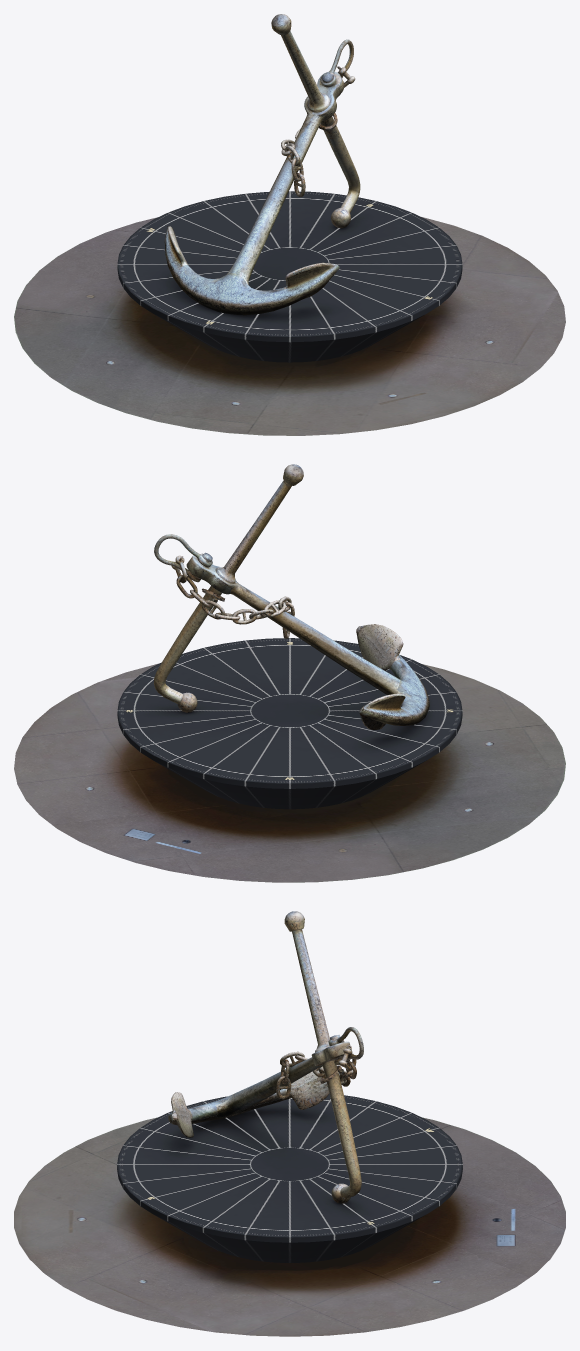
Rendered from MiraiKoukai2.gltf.
The picture shows the model from 3 angles, top to bottom: view 1: azimuth 30°, elevation 25°; view 2: azimuth 150°, elevation 25°; view 3: azimuth 270°, elevation 25°; orthographic projection.
Visible parts, largest first — view 1: Floor, Base, Anchor, Tube; view 2: Floor, Base, Anchor, Tube; view 3: Floor, Base, Anchor, Tube.
Part boxes in pixels (<box>): Floor: <box>14,217,565,435</box>; Base: <box>117,191,462,362</box>; Anchor: <box>164,39,353,315</box>; Tube: <box>271,14,360,228</box>; Floor: <box>14,663,565,882</box>; Base: <box>117,638,462,809</box>; Anchor: <box>154,534,429,729</box>; Tube: <box>153,464,303,712</box>; Floor: <box>14,1117,565,1336</box>; Base: <box>117,1094,462,1262</box>; Anchor: <box>168,1027,363,1137</box>; Tube: <box>284,911,361,1203</box>.
Bounding box in the file's own units: 320 × 195 × 319.
3 materials, 3 textured.
